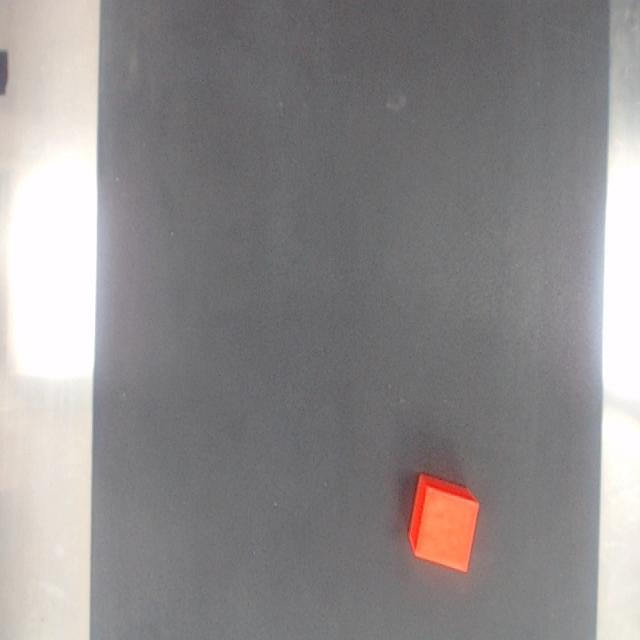Rojo: (408, 473, 479, 572)
